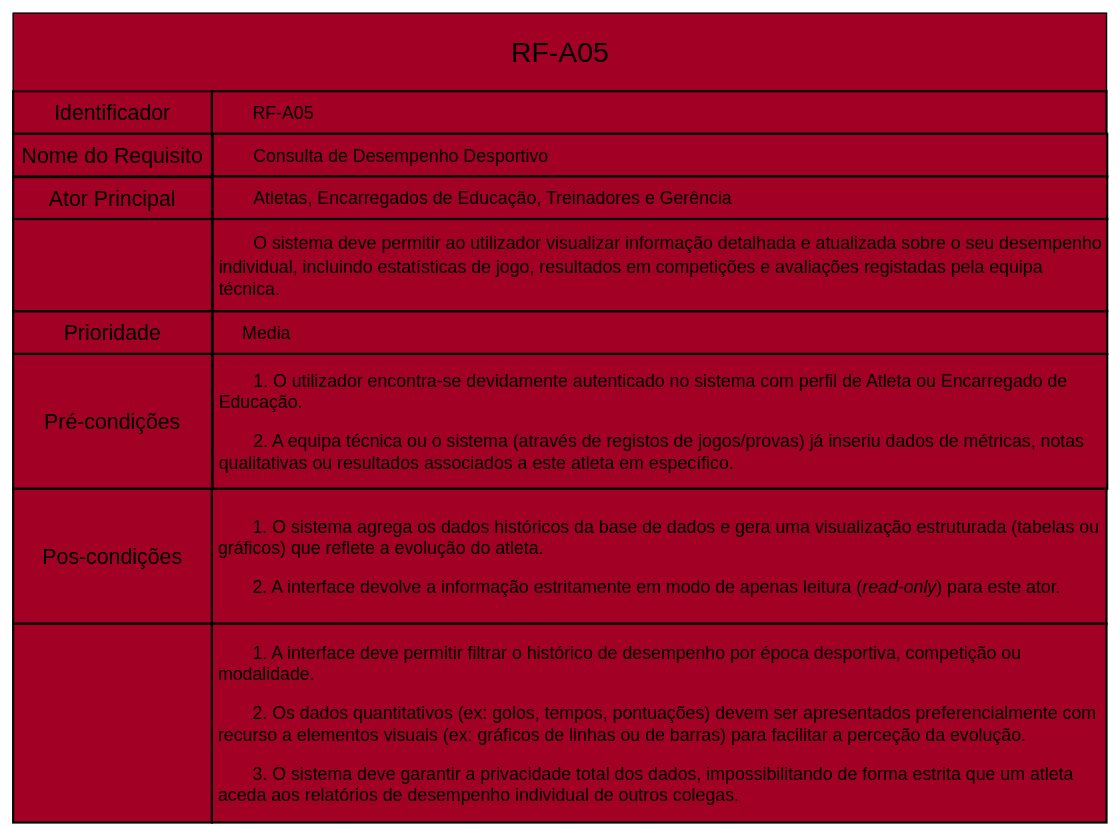
Image size: 1120x836. Some labels were removed from this diagram. Each missing label, with the centre of its shape:
"Critérios de Aceitação" belongs at point 112,722.
"Descrição" belongs at point 112,265.
